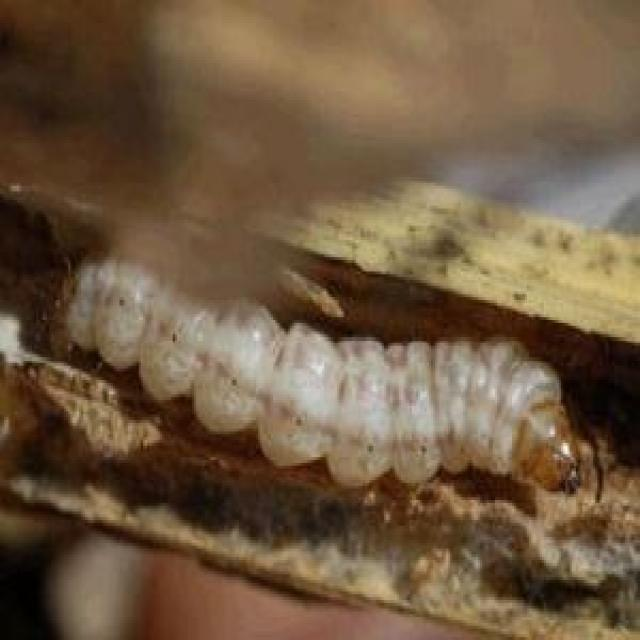peach borer: (59, 255, 596, 507)
